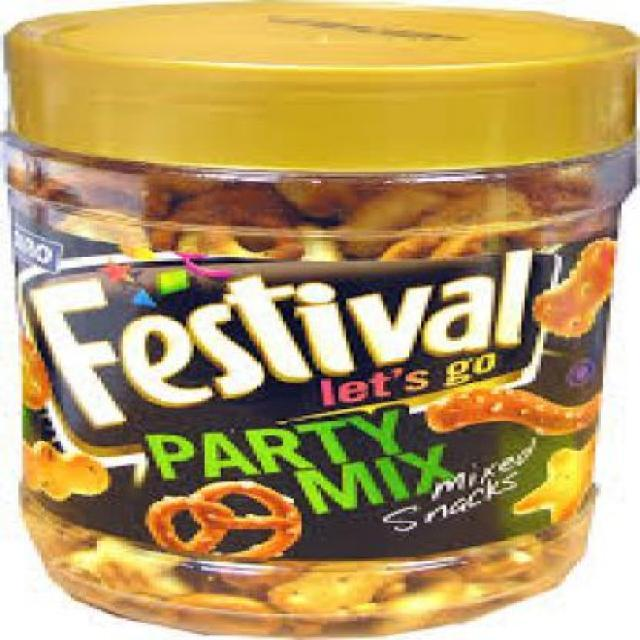Salatini: (4, 2, 633, 638)
